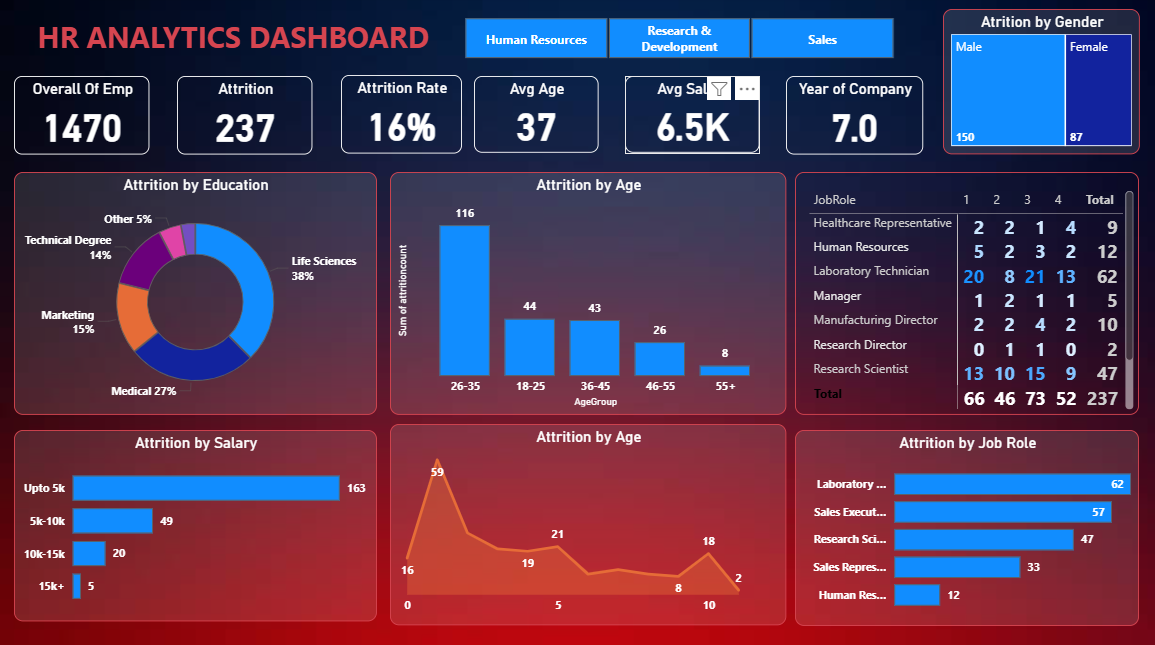

This screenshot's page, from the dashboard's own definition file:
{"tool":"powerbi","page":{"name":"Page 1","canvas":[1280,720],"ordinal":0},"visuals":[{"type":"card","title":"Overall Of Emp","fields":{"Values":["CountNonNull(HR_Analytics.EmpID)"]},"box":[16.6,88,150.4,86.7],"z":0},{"type":"card","title":"Attrition Rate","fields":{"Values":["HR_Analytics.attritionrate"]},"box":[378.6,86.7,133.9,86.7],"z":1000},{"type":"card","title":"Attrition","fields":{"Values":["Sum(HR_Analytics.attritioncount)"]},"box":[197.6,88,150.4,86.7],"z":2000},{"type":"card","title":"Avg Age","fields":{"Values":["Avg(HR_Analytics.Age)"]},"box":[526.5,88,137.7,85.4],"z":3000},{"type":"card","title":"Year of Company","fields":{"Values":["Avg(HR_Analytics.YearsAtCompany)"]},"box":[872,88,151.7,86.7],"z":4000},{"type":"card","title":"Avg Salary","fields":{"Values":["Avg(HR_Analytics.MonthlyIncome)"]},"box":[693.5,88,149.2,85.4],"z":5000},{"type":"donutChart","title":"Attrition by Education","fields":{"Category":["HR_Analytics.EducationField"],"Y":["Sum(HR_Analytics.attritioncount)"]},"box":[16.6,193.8,401.6,269],"z":6000},{"type":"columnChart","title":"Attrition by Age","fields":{"Category":["HR_Analytics.AgeGroup"],"Y":["Sum(HR_Analytics.attritioncount)"]},"box":[433.5,193.8,438.6,269],"z":7000},{"type":"pivotTable","fields":{"Rows":["HR_Analytics.JobRole"],"Columns":["HR_Analytics.JobSatisfaction"],"Values":["Sum(HR_Analytics.attritioncount)"]},"box":[882.2,193.8,381.2,269],"z":8000},{"type":"clusteredBarChart","title":"Attrition by Salary","fields":{"Category":["HR_Analytics.SalarySlab"],"Y":["Sum(HR_Analytics.attritioncount)"]},"box":[16.6,479.4,401.6,211.6],"z":9000},{"type":"clusteredBarChart","title":"Attrition by Job Role","fields":{"Category":["HR_Analytics.JobRole"],"Y":["Sum(HR_Analytics.attritioncount)"]},"box":[882.2,479.4,381.2,216.7],"z":10000},{"type":"areaChart","title":"Attrition by Age","fields":{"Category":["HR_Analytics.YearsAtCompany"],"Y":["Sum(HR_Analytics.attritioncount)"]},"box":[433.5,473,438.6,223.1],"z":11000},{"type":"treemap","title":"Atrition by Gender","fields":{"Group":["HR_Analytics.Gender"],"Values":["Sum(HR_Analytics.attritioncount)"]},"box":[1045.4,12.7,218,160.6],"z":12000},{"type":"slicer","fields":{"Values":["HR_Analytics.Department"]},"box":[490.8,16.6,524,53.5],"z":13000},{"type":"textbox","box":[16.6,16.6,485.7,63.7],"z":14000}]}

Visuals, with their boxes in screenshot pixels (x1, y1, x2, y2), scaled from the page's 1280x720 canvas onto the 1155x645 screenshot:
"Overall Of Emp" card: 15, 79, 151, 157
"Attrition Rate" card: 342, 78, 462, 155
"Attrition" card: 178, 79, 314, 157
"Avg Age" card: 475, 79, 599, 155
"Year of Company" card: 787, 79, 924, 157
"Avg Salary" card: 626, 79, 760, 155
"Attrition by Education" donutChart: 15, 174, 377, 415
"Attrition by Age" columnChart: 391, 174, 787, 415
pivotTable - HR_Analytics.JobRole x HR_Analytics.JobSatisfaction: 796, 174, 1140, 415
"Attrition by Salary" clusteredBarChart: 15, 429, 377, 619
"Attrition by Job Role" clusteredBarChart: 796, 429, 1140, 624
"Attrition by Age" areaChart: 391, 424, 787, 624
"Atrition by Gender" treemap: 943, 11, 1140, 155
slicer - HR_Analytics.Department: 443, 15, 916, 63
textbox: 15, 15, 453, 72
